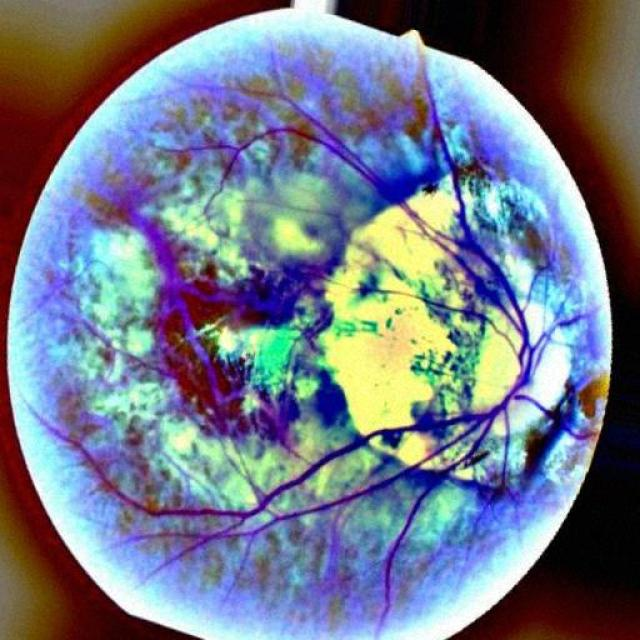Optic Disk: (315, 190, 522, 478)
